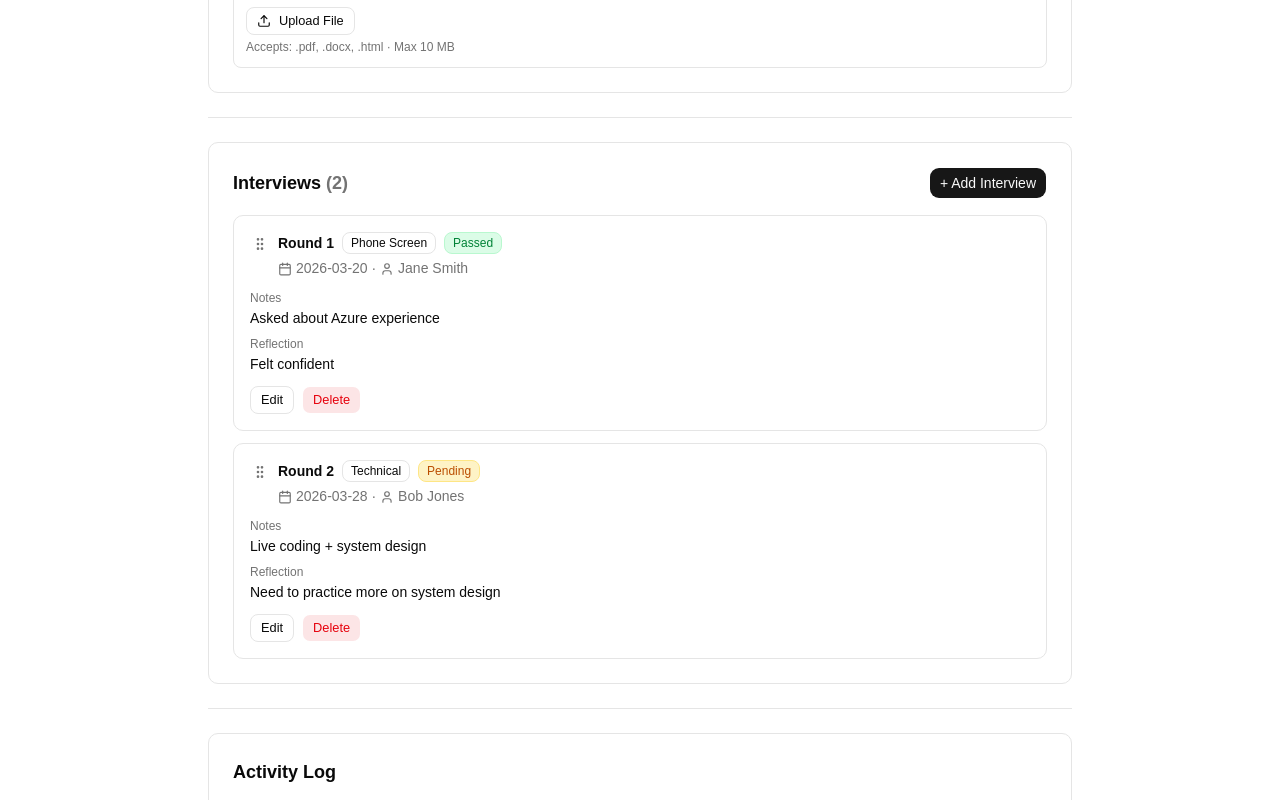
it: ApplicationDetailPage › opens edit modal with pre-populated interview data
(page scrolled)
# Click the edit button on the interview card
Click the button "Edit" below "Felt confident" at (272,400), box [250,386,294,414]
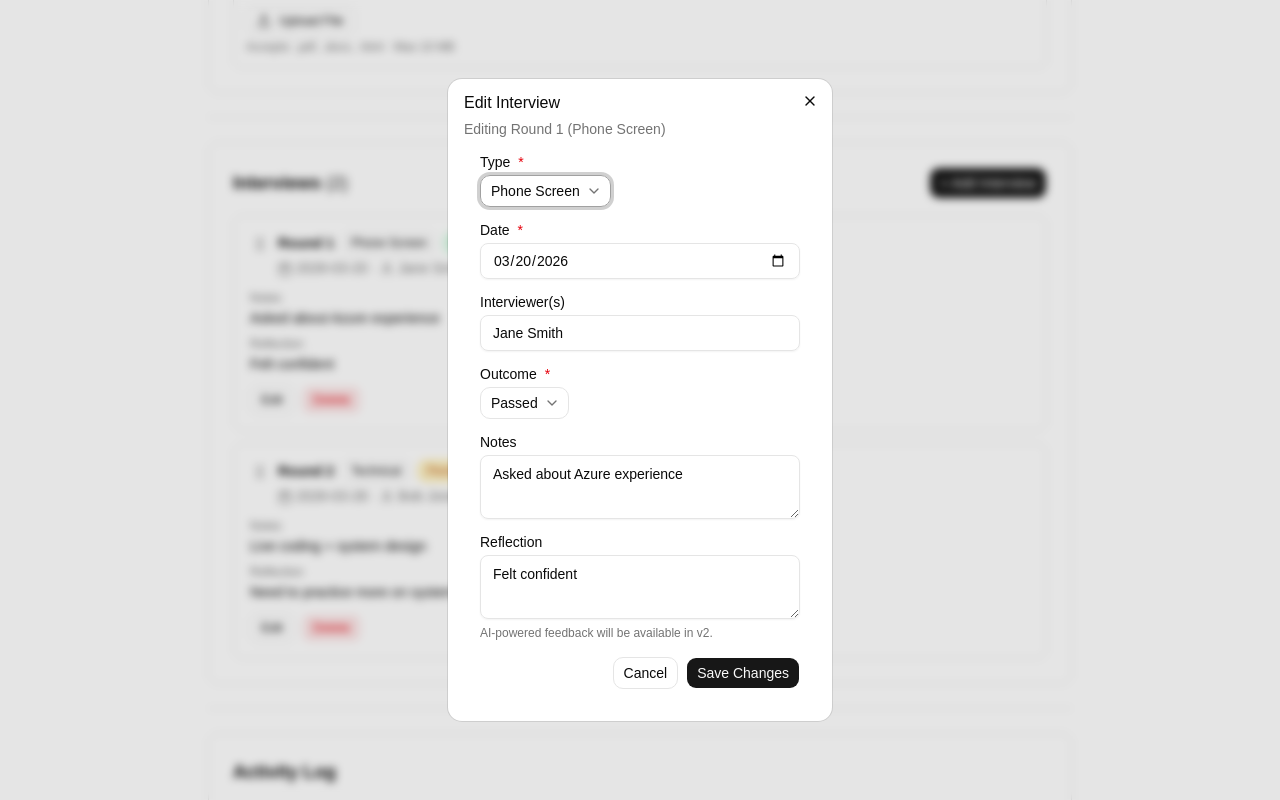
Now the heading "Edit Interview" is shown, box [464,94,560,111]
Now the text "Editing Round 1 (Phone Screen)" is shown, box [464,121,666,137]
